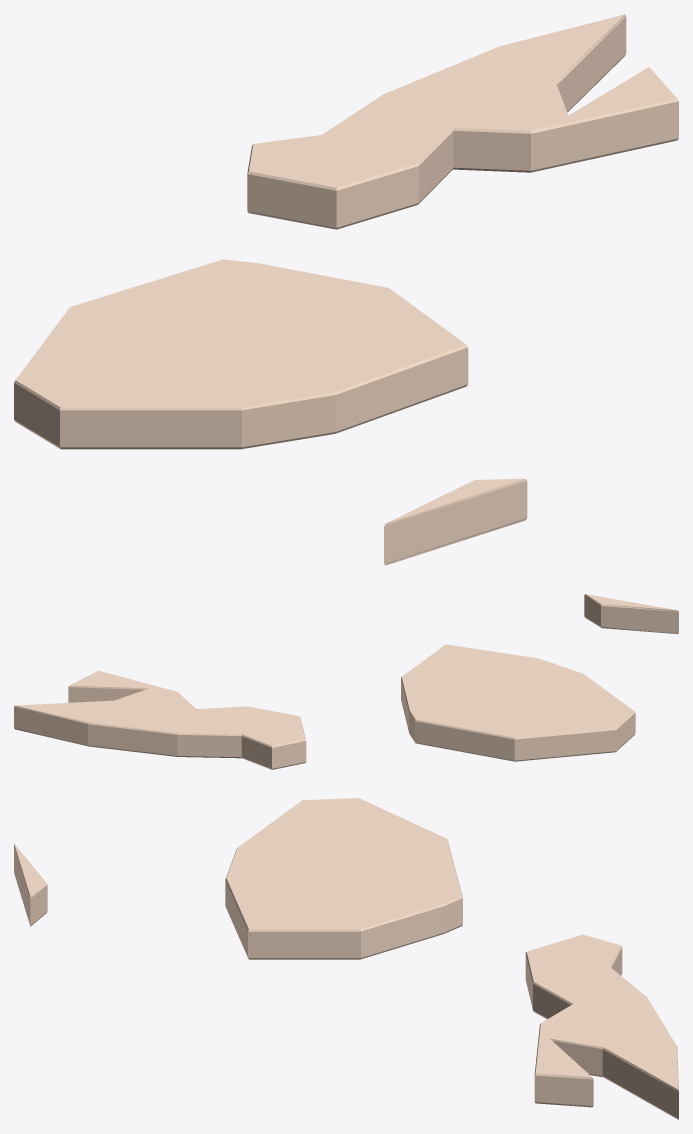
File: FJI.glb
The picture shows the model from 3 angles, top to bottom: view 1: azimuth 30°, elevation 25°; view 2: azimuth 150°, elevation 25°; view 3: azimuth 270°, elevation 25°; orthographic projection. The views are drawn at different scales.
Size of the model in its own units: 1.42 by 0.068 by 1.36.
